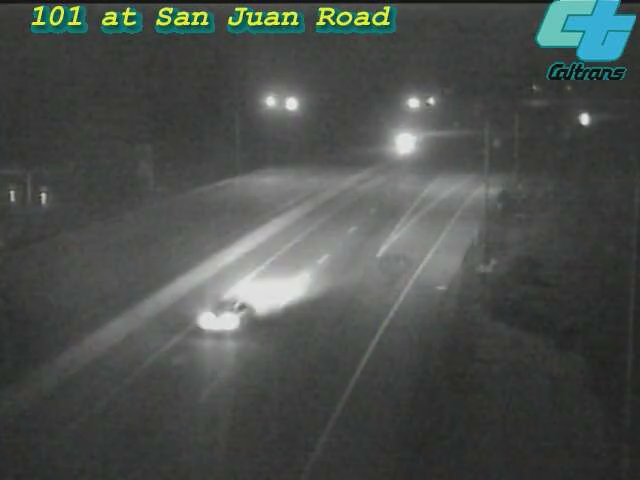vehicle: (184, 275, 264, 355), (382, 117, 432, 167), (559, 95, 609, 145)
